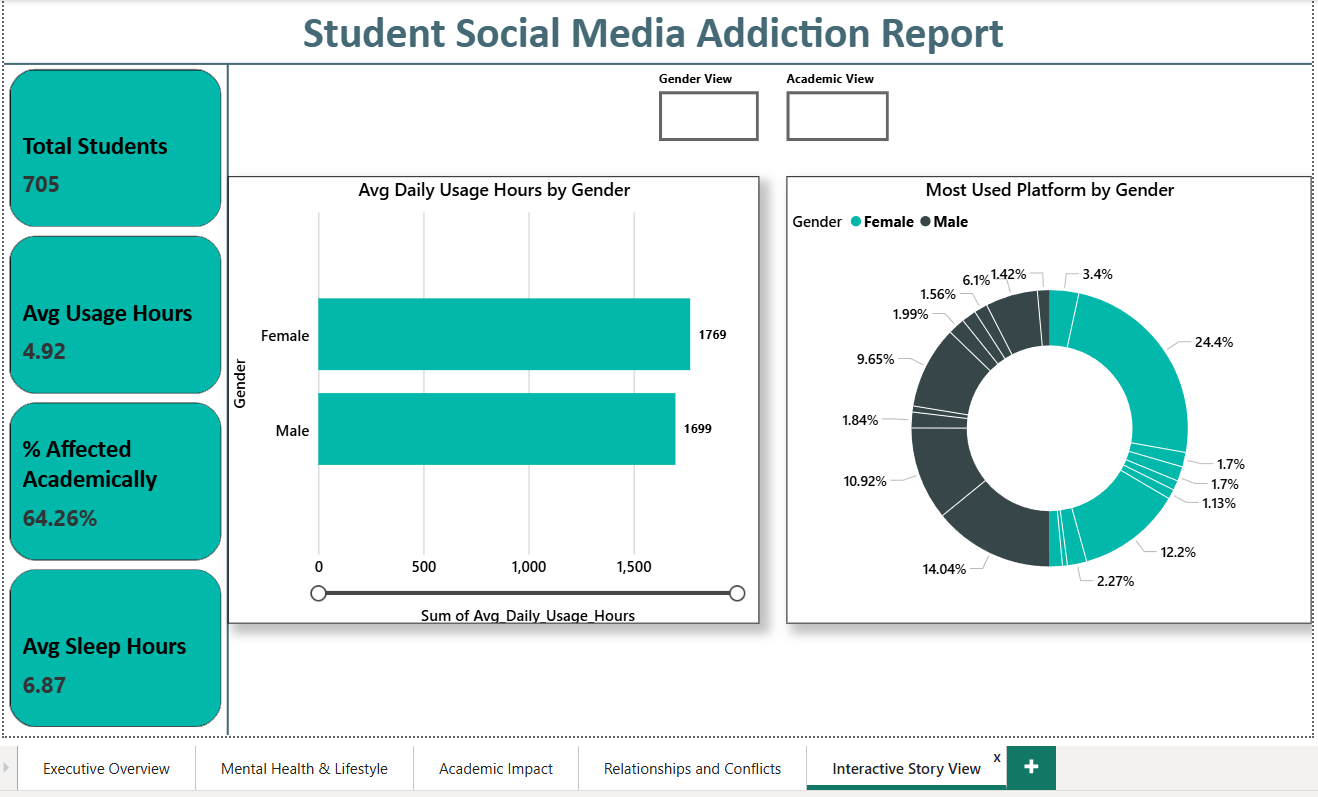

The page's visual inventory and layout, read from the dashboard file:
{"tool":"powerbi","page":{"name":"Interactive Story View","canvas":[1280,720],"ordinal":4},"visuals":[{"type":"textbox","box":[0,0,1280.3,63.6],"z":0},{"type":"shape","box":[0,56.2,1280,12.5],"z":1000},{"type":"shape","box":[212.8,62.4,12.2,656.7],"z":2000},{"type":"cardVisual","fields":{"Data":["CountNonNull(Student_details.Student_ID)","Platform_Details.Avg Usage Hours","Platform_Details.% Affected Academically","Student_details.Avg Sleep Hours"]},"box":[0,62.4,218.9,656.7],"z":3000},{"type":"clusteredBarChart","title":"Avg Daily Usage Hours by Gender","fields":{"Category":["Student_details.Gender"],"Y":["Sum(Platform_Details.Avg_Daily_Usage_Hours)"]},"box":[218.9,172.4,519.7,437.8],"z":4000},{"type":"donutChart","title":"Most Used Platform by Gender","fields":{"Category":["Student_details.Gender"],"Y":["CountNonNull(Platform_Details.Most_Used_Platform)"],"Series":["Platform_Details.Most_Used_Platform"]},"box":[765.5,172.4,513.6,437.8],"z":5000},{"type":"actionButton","title":"Academic View","box":[765.5,68.5,100.3,69.7],"z":8000},{"type":"actionButton","title":"Gender View","box":[640.8,68.5,97.8,69.7],"z":9000}]}

Visuals, with their boxes on the page's 1280x720 design canvas (x1, y1, x2, y2). These are canvas units, not pixel positions in the 1318x797 screenshot, which may show the page scaled, cropped or inside an application window:
textbox: bbox=(0, 0, 1280, 64)
shape: bbox=(0, 56, 1280, 69)
shape: bbox=(213, 62, 225, 719)
cardVisual - CountNonNull(Student_details.Student_ID) x Platform_Details.Avg Usage Hours: bbox=(0, 62, 219, 719)
"Avg Daily Usage Hours by Gender" clusteredBarChart: bbox=(219, 172, 739, 610)
"Most Used Platform by Gender" donutChart: bbox=(766, 172, 1279, 610)
"Academic View" actionButton: bbox=(766, 68, 866, 138)
"Gender View" actionButton: bbox=(641, 68, 739, 138)
